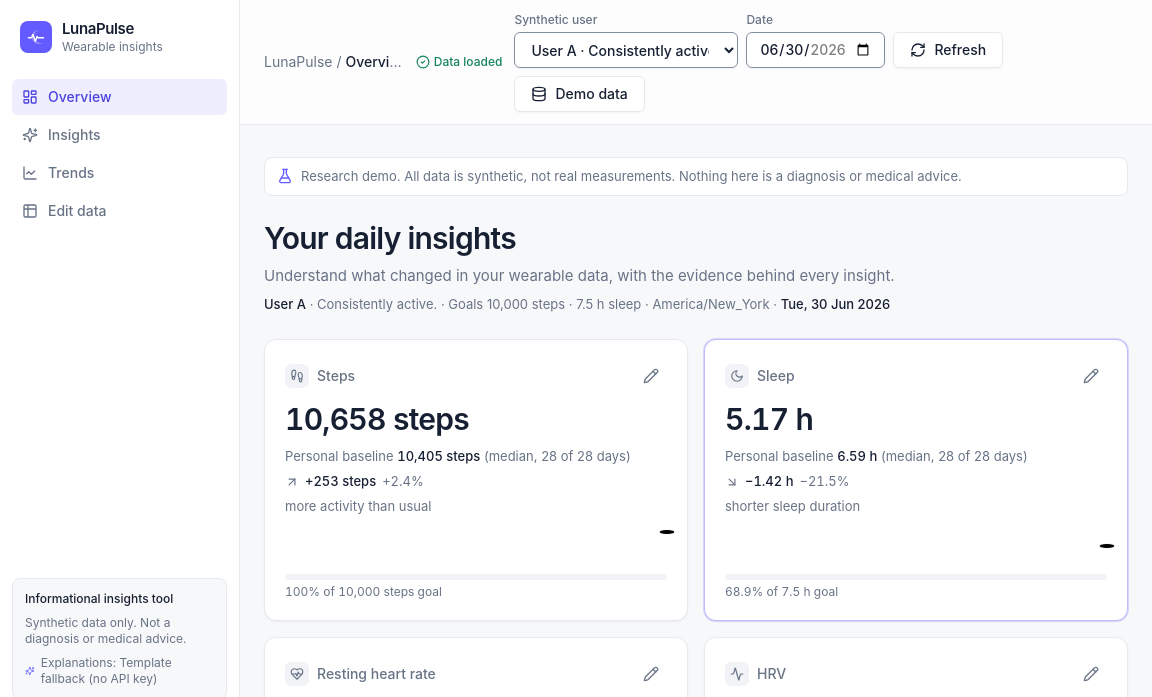
Test case: App shell › sidebar switches between overview and the data editor
Click the button "Edit data" at (120, 211), box [12,193,227,229]
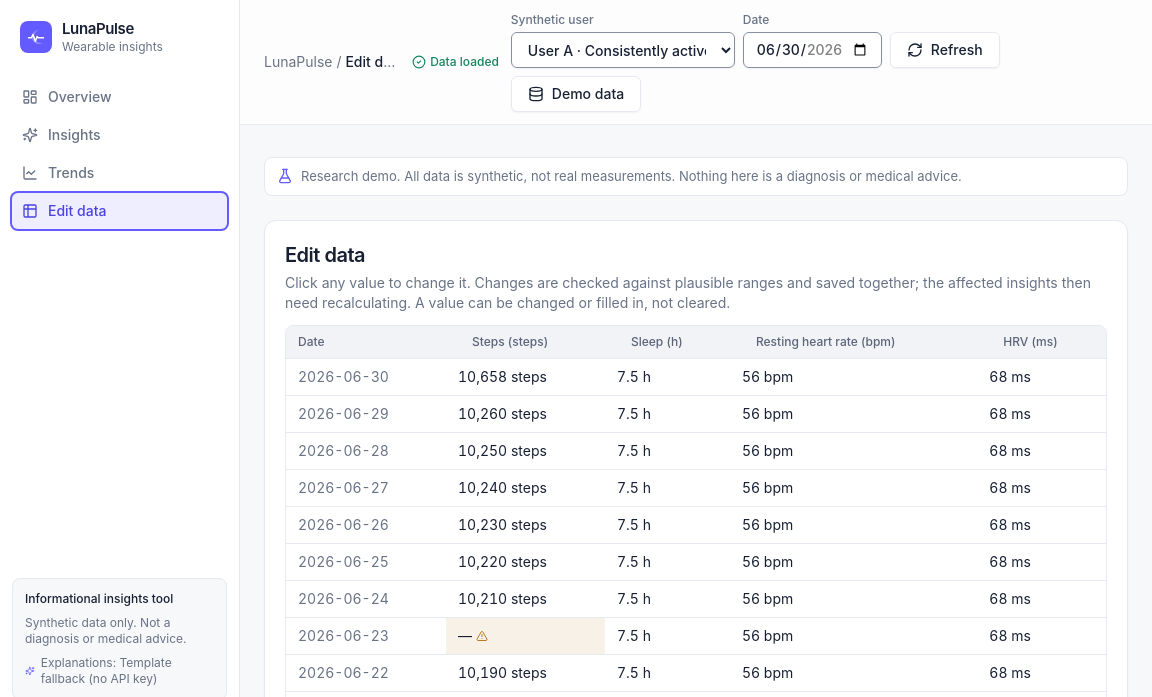
Check: the heading "Edit data" is shown, box [285,243,365,267]
